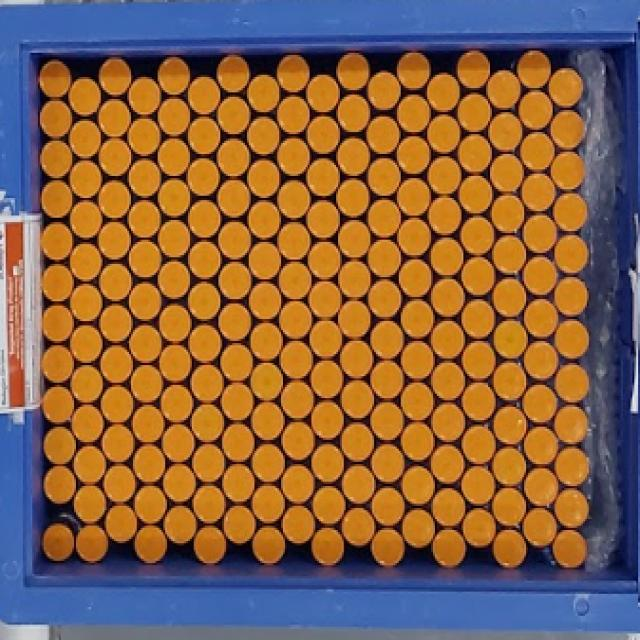vial: (486, 69, 521, 110), (550, 110, 585, 151), (554, 276, 589, 317), (524, 340, 559, 381), (461, 424, 496, 465), (552, 193, 588, 232), (522, 256, 558, 295), (492, 405, 528, 444), (522, 384, 558, 423), (522, 508, 558, 547), (549, 68, 584, 108), (524, 426, 559, 466), (554, 488, 589, 528), (426, 72, 460, 113), (524, 298, 558, 339), (555, 318, 589, 359), (251, 483, 285, 524), (401, 421, 435, 462), (430, 320, 465, 359), (520, 132, 555, 171), (554, 235, 589, 274), (461, 340, 496, 379), (430, 444, 465, 483), (431, 488, 466, 527), (431, 528, 466, 567), (461, 382, 496, 421), (461, 466, 496, 505), (491, 488, 526, 527), (524, 468, 559, 507), (490, 153, 524, 193), (551, 151, 585, 191), (252, 525, 286, 565), (341, 507, 375, 547), (370, 360, 404, 400), (371, 443, 405, 483), (431, 402, 465, 442), (492, 446, 526, 486), (555, 446, 589, 486), (489, 111, 522, 152), (402, 508, 435, 549), (552, 530, 588, 567), (396, 178, 431, 216), (246, 74, 280, 113), (216, 96, 250, 135), (216, 138, 250, 177), (306, 74, 340, 113), (306, 116, 340, 155), (306, 158, 340, 197), (306, 200, 340, 239), (336, 52, 370, 91), (336, 94, 370, 133), (366, 116, 400, 155), (336, 138, 370, 177), (370, 320, 404, 359), (340, 340, 374, 379), (396, 94, 430, 133), (430, 237, 464, 276), (431, 278, 465, 317), (401, 340, 435, 379), (431, 362, 465, 401), (460, 216, 494, 255), (491, 194, 525, 233), (522, 214, 556, 253), (461, 256, 495, 295), (461, 300, 495, 339), (492, 278, 526, 317), (494, 320, 528, 359), (101, 424, 135, 463), (134, 485, 168, 524), (162, 463, 196, 502), (164, 505, 198, 544), (191, 443, 225, 482), (192, 485, 226, 524), (222, 505, 256, 544), (251, 401, 285, 440), (251, 443, 285, 482), (281, 421, 315, 460), (281, 465, 315, 504), (281, 505, 315, 544), (312, 485, 346, 524), (341, 465, 375, 504), (371, 486, 405, 525), (371, 528, 405, 567), (401, 466, 435, 505), (462, 508, 496, 547), (492, 362, 526, 401), (492, 528, 526, 567), (555, 363, 589, 402), (554, 405, 588, 444), (98, 98, 131, 138), (278, 221, 311, 261), (519, 90, 552, 130), (516, 51, 551, 88), (521, 174, 556, 211), (216, 55, 250, 93), (276, 55, 310, 93), (310, 360, 344, 398), (396, 52, 430, 90), (396, 136, 430, 174), (492, 236, 526, 274), (75, 525, 109, 563), (131, 405, 165, 443), (134, 525, 168, 563), (370, 402, 404, 440), (41, 345, 74, 384), (69, 159, 102, 198), (128, 77, 161, 116), (128, 117, 161, 156), (368, 71, 401, 110), (336, 178, 369, 217), (368, 239, 401, 278), (368, 279, 401, 318), (338, 300, 371, 339), (428, 114, 461, 153), (398, 217, 431, 256), (401, 300, 434, 339), (458, 93, 491, 132), (459, 175, 492, 214), (42, 523, 75, 562), (71, 404, 104, 443), (105, 504, 138, 543), (132, 444, 165, 483), (191, 404, 224, 443), (221, 382, 254, 421), (222, 423, 255, 462), (222, 463, 255, 502), (251, 362, 284, 401), (281, 381, 314, 420), (311, 401, 344, 440), (311, 443, 344, 482), (311, 527, 344, 566), (341, 381, 374, 420), (341, 423, 374, 462), (401, 382, 434, 421), (158, 56, 190, 96), (248, 116, 280, 156), (194, 525, 226, 565), (456, 51, 490, 88), (72, 446, 106, 483), (98, 221, 131, 259), (218, 221, 251, 259), (248, 201, 281, 239), (279, 301, 312, 339), (309, 320, 342, 358), (338, 220, 371, 258), (428, 156, 461, 194), (428, 197, 461, 235), (399, 259, 432, 297), (101, 385, 134, 423), (161, 385, 194, 423), (162, 424, 195, 462), (39, 59, 71, 98), (40, 100, 72, 139), (42, 263, 74, 302), (69, 77, 101, 116), (70, 324, 102, 363), (99, 138, 131, 177), (99, 180, 131, 219), (100, 345, 132, 384), (129, 239, 161, 278), (129, 282, 161, 321), (129, 324, 161, 363), (158, 97, 190, 136), (158, 138, 190, 177), (158, 178, 190, 217), (158, 261, 190, 300), (188, 116, 220, 155), (189, 240, 221, 279), (189, 324, 221, 363), (248, 159, 280, 198), (219, 303, 251, 342), (278, 96, 310, 135), (278, 138, 310, 177), (278, 180, 310, 219), (280, 340, 312, 379), (74, 485, 106, 524), (41, 221, 72, 261), (128, 200, 161, 237), (188, 200, 221, 237), (308, 242, 341, 279), (368, 158, 401, 195), (368, 200, 401, 237), (458, 135, 491, 172), (191, 365, 224, 402), (40, 140, 72, 178), (42, 305, 74, 343), (69, 120, 101, 158), (70, 201, 102, 239), (70, 243, 102, 281), (70, 284, 102, 322), (99, 58, 131, 96), (99, 263, 131, 301), (100, 304, 132, 342), (129, 159, 161, 197), (158, 220, 190, 258), (159, 304, 191, 342), (188, 282, 220, 320), (219, 262, 251, 300), (249, 282, 281, 320), (220, 343, 252, 381), (279, 262, 311, 300), (44, 427, 76, 465), (44, 466, 76, 504), (159, 345, 191, 382), (188, 77, 220, 114), (188, 158, 220, 195), (218, 180, 250, 217), (249, 242, 281, 279), (250, 323, 282, 360), (309, 281, 341, 318), (339, 261, 371, 298), (42, 387, 74, 424), (70, 365, 102, 402), (104, 465, 136, 502), (41, 181, 72, 219), (131, 365, 162, 402)
